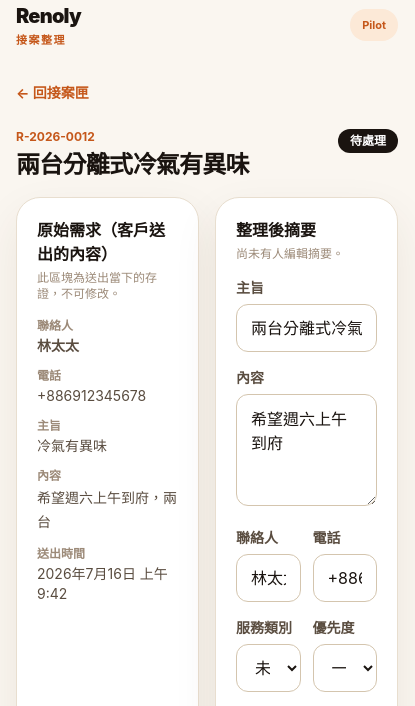
Test: PilotRequestDetail › shows a conflict toast and refetches on a 412 while saving the summary
Type "！" into the field labelled "主旨" at (306, 328), box left=236, top=304, right=377, bottom=352
(page scrolled)
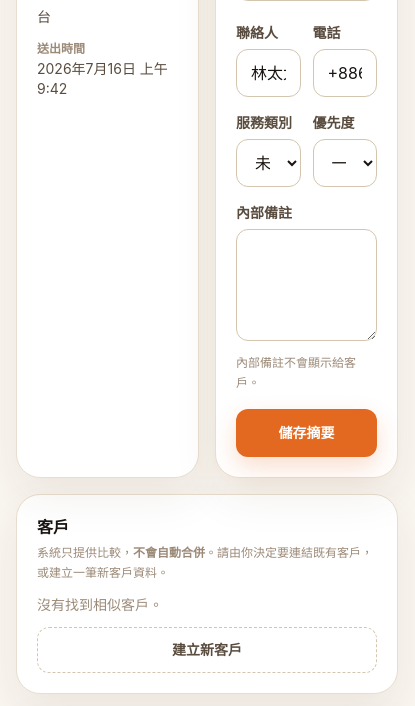
Click the button "儲存摘要" at (306, 432), box left=236, top=408, right=377, bottom=456
(page scrolled)
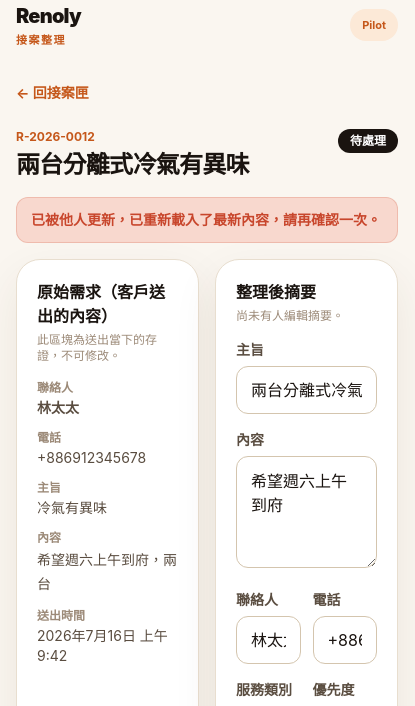
Result: the message reads "已被他人更新，已重新載入了最新內容，請再確認一次。" at left=31, top=210, right=381, bottom=228
